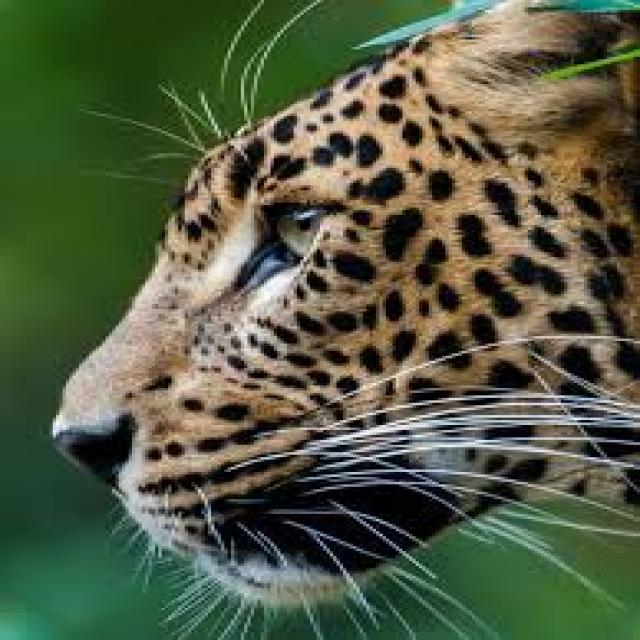Jaguar: (53, 15, 640, 608)
